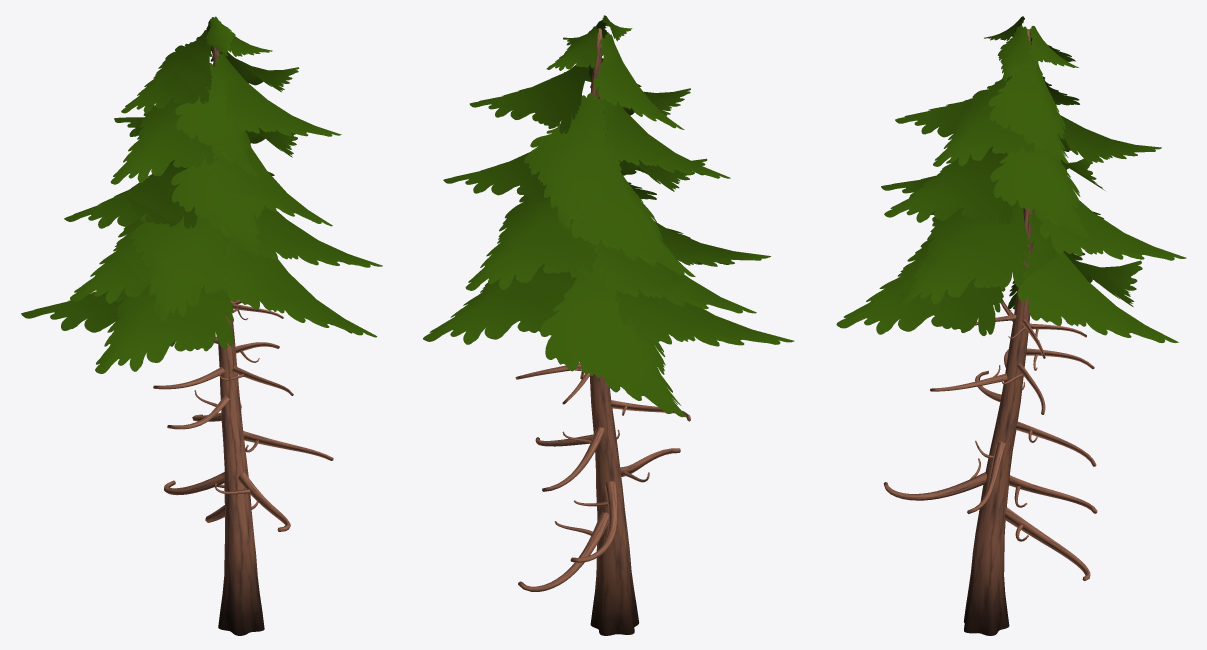
Rendered from pine_3.glb.
The picture shows the model from 3 angles, left to right: view 1: azimuth 30°, elevation 25°; view 2: azimuth 150°, elevation 25°; view 3: azimuth 270°, elevation 25°; orthographic projection. The views are drawn at different scales.
Parts seen in each view (by area): view 1: Pine_3; view 2: Pine_3; view 3: Pine_3.
Part boxes in pixels (x1=…): Pine_3: x1=21, y1=16, x2=382, y2=635; Pine_3: x1=423, y1=15, x2=794, y2=635; Pine_3: x1=836, y1=16, x2=1186, y2=635.
Bounding box in the file's own units: 3.61 × 7.39 × 4.
2 materials, 2 textured.
